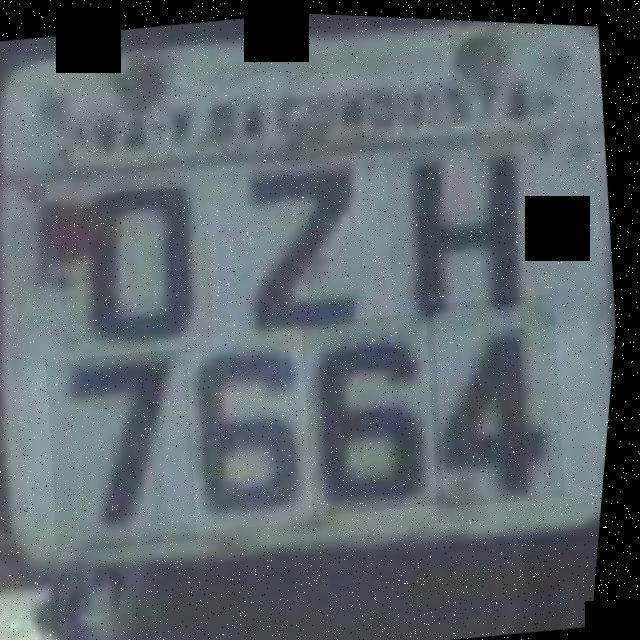4: (417, 284, 586, 509)
6: (150, 315, 350, 538), (294, 303, 466, 518)
7: (40, 341, 219, 557)
H: (374, 120, 538, 317)
O: (48, 167, 231, 368)
Z: (213, 151, 385, 339)
